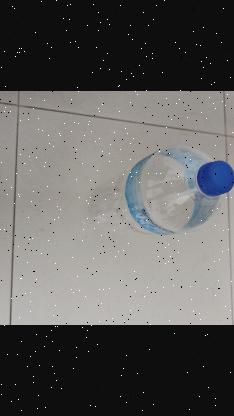Plastic Bottle: (87, 139, 234, 253)
